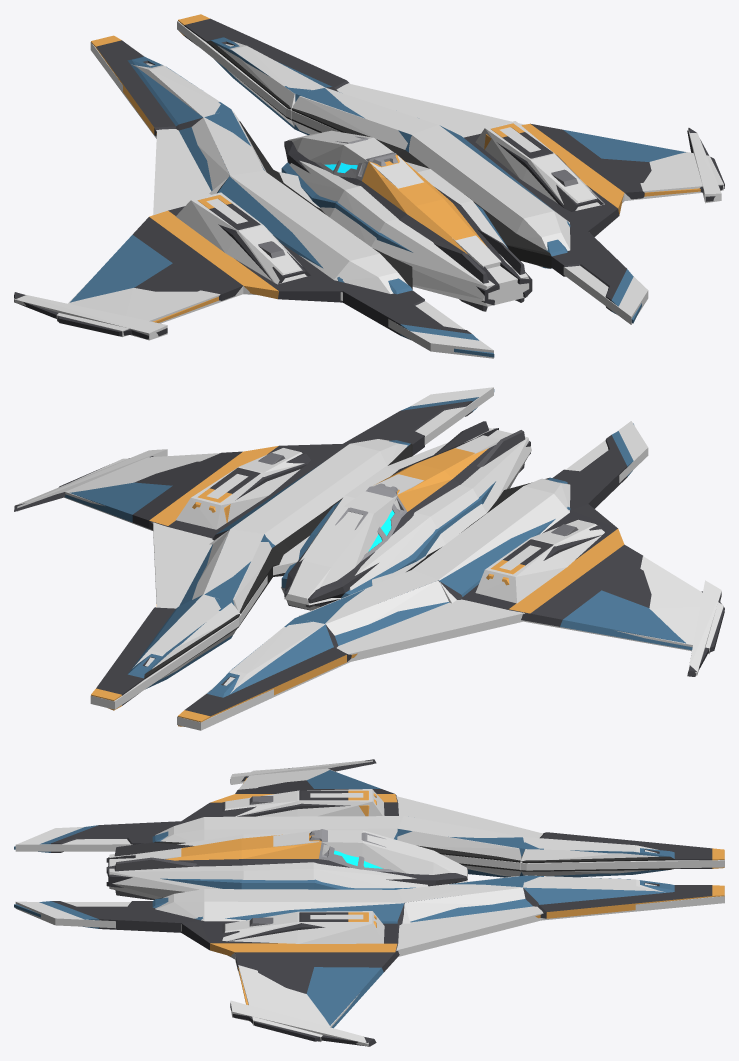
The model's file is SM_Ship_Stealth_01.fbx.
3 renders of one model, top to bottom at view 1: azimuth 30°, elevation 25°; view 2: azimuth 150°, elevation 25°; view 3: azimuth 270°, elevation 25°, orthographic. The views are drawn at different scales.
Parts seen in each view (by area): view 1: SM_Ship_Stealth_01_ConvexHulls, SM_Ship_Stealth_01_LOD0; view 2: SM_Ship_Stealth_01_ConvexHulls, SM_Ship_Stealth_01_LOD0; view 3: SM_Ship_Stealth_01_ConvexHulls, SM_Ship_Stealth_01_LOD0.
Part boxes in pixels (bbox=[...]): SM_Ship_Stealth_01_ConvexHulls: bbox=[14, 21, 723, 358]; SM_Ship_Stealth_01_LOD0: bbox=[14, 14, 724, 357]; SM_Ship_Stealth_01_ConvexHulls: bbox=[14, 387, 723, 730]; SM_Ship_Stealth_01_LOD0: bbox=[14, 389, 724, 726]; SM_Ship_Stealth_01_ConvexHulls: bbox=[15, 760, 724, 1046]; SM_Ship_Stealth_01_LOD0: bbox=[14, 759, 724, 1046].
Size of the model in its own units: 1969 by 1859 by 222.
1 material, 1 textured.
